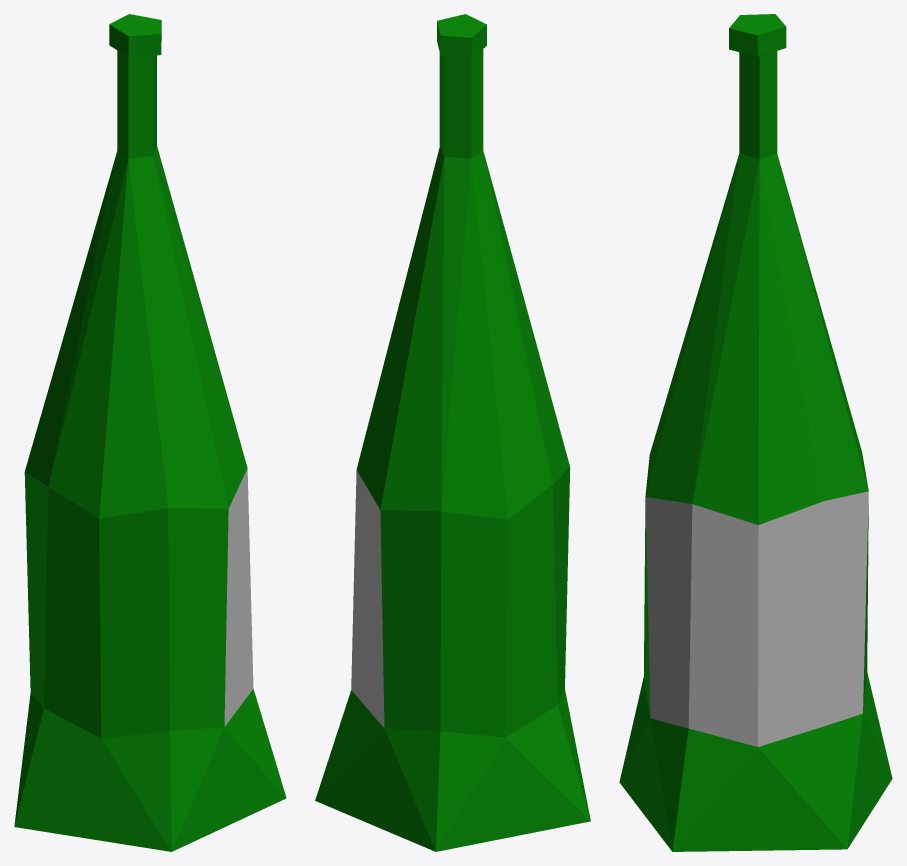
Rendered from bottle1.obj.
3 renders of one model, left to right at view 1: azimuth 30°, elevation 25°; view 2: azimuth 150°, elevation 25°; view 3: azimuth 270°, elevation 25°, orthographic.
Parts seen in each view (by area): view 1: Icosphere.001; view 2: Icosphere.001; view 3: Icosphere.001.
Boxes of the visible parts, bbox=[...] form: Icosphere.001: bbox=[14, 14, 286, 851]; Icosphere.001: bbox=[315, 14, 590, 851]; Icosphere.001: bbox=[619, 14, 892, 851].
Bounding box in the file's own units: 0.1524 × 0.4785 × 0.1527.
